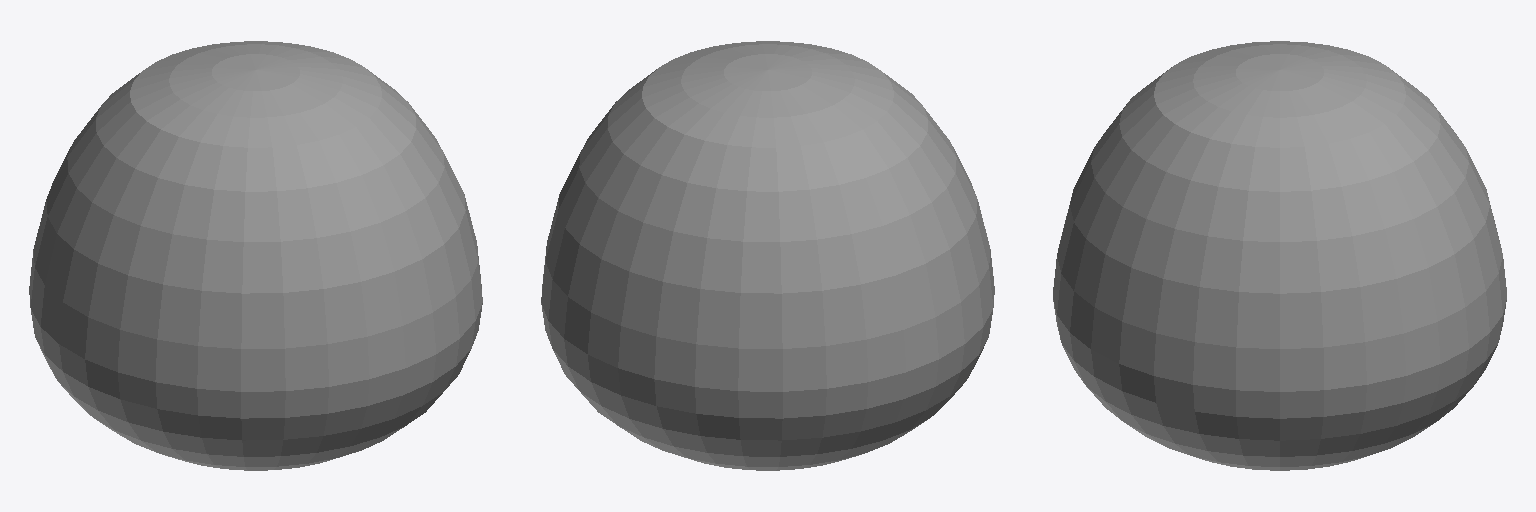
The model's file is slime.obj.
The picture shows the model from 3 angles: view 1: azimuth 30°, elevation 25°; view 2: azimuth 150°, elevation 25°; view 3: azimuth 270°, elevation 25°; orthographic projection.
Parts seen in each view (by area): view 1: Sphere; view 2: Sphere; view 3: Sphere.
Part boxes in pixels (left/top/right/bottom): Sphere: left=29, top=41, right=482, bottom=470; Sphere: left=541, top=41, right=994, bottom=470; Sphere: left=1053, top=41, right=1506, bottom=470.
Bounding box in the file's own units: 2 × 1.81 × 2.